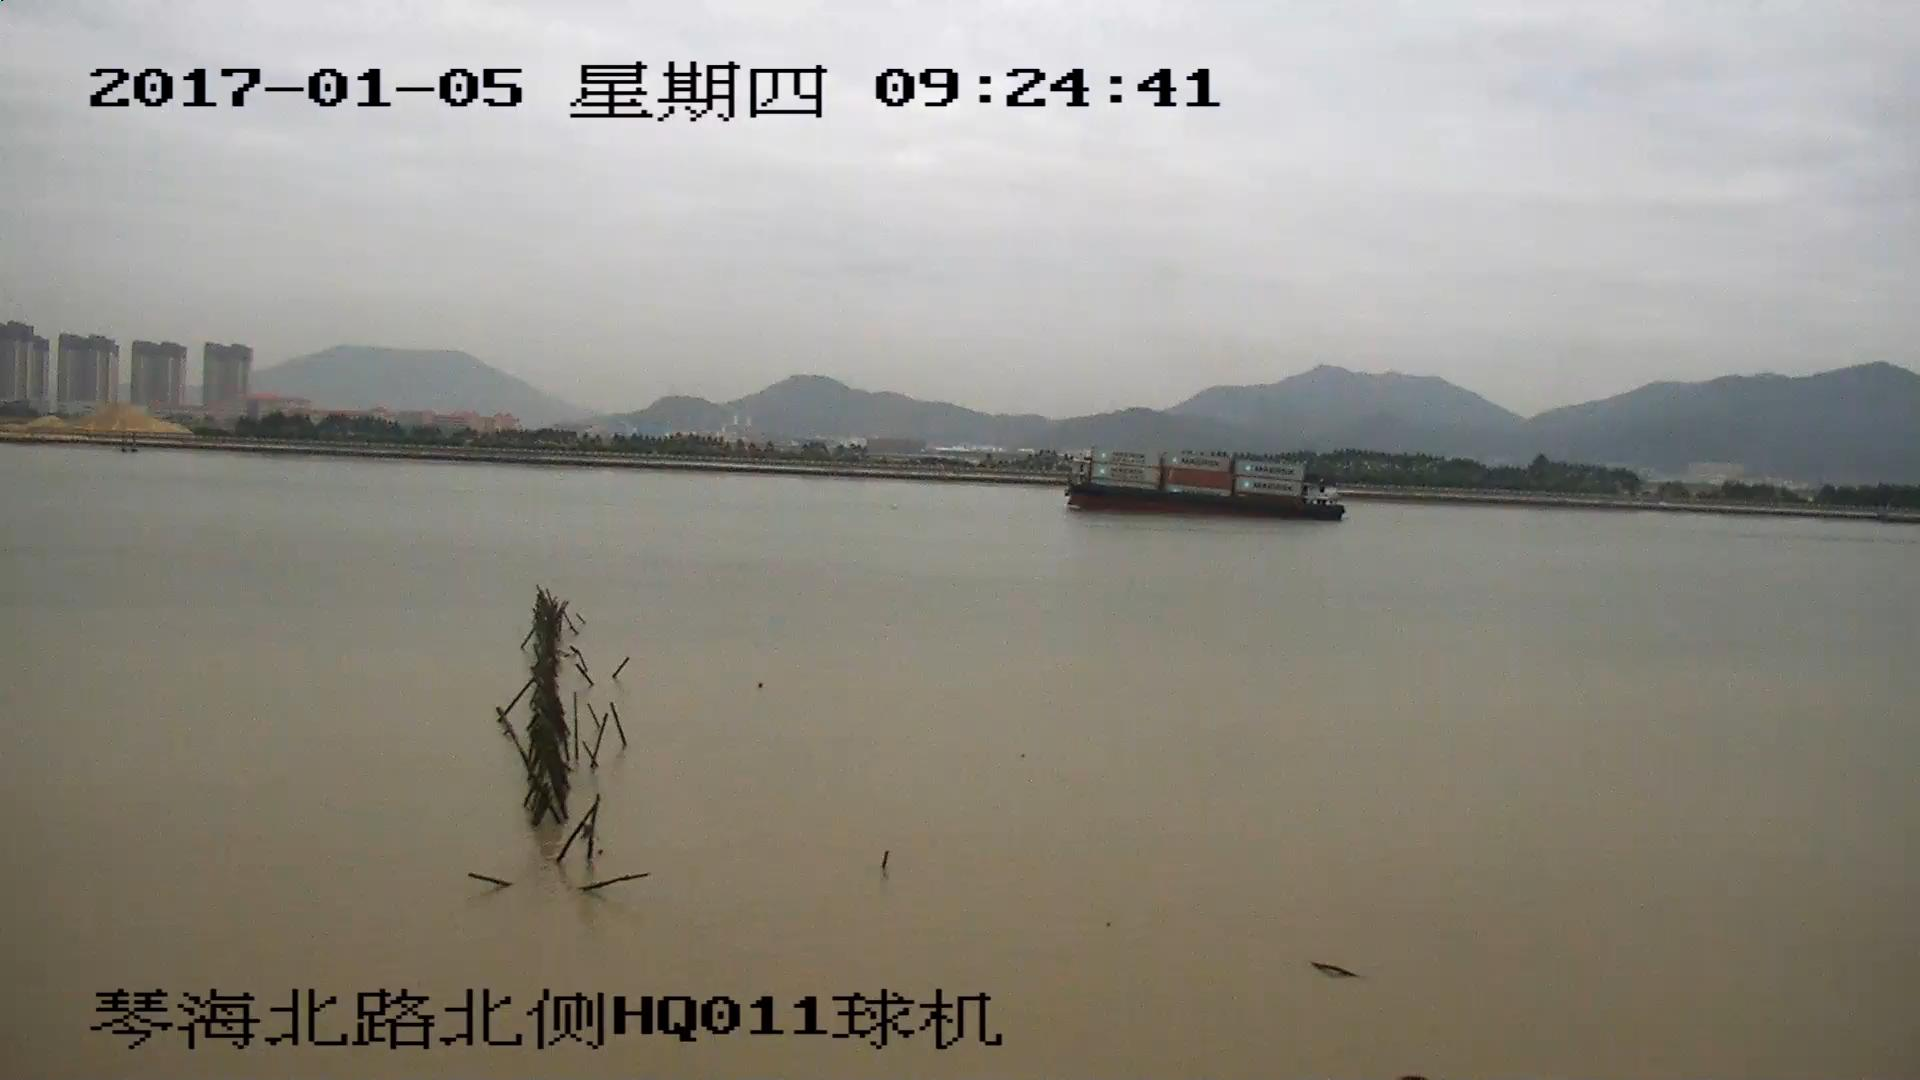container ship: (1061, 452, 1343, 521)
